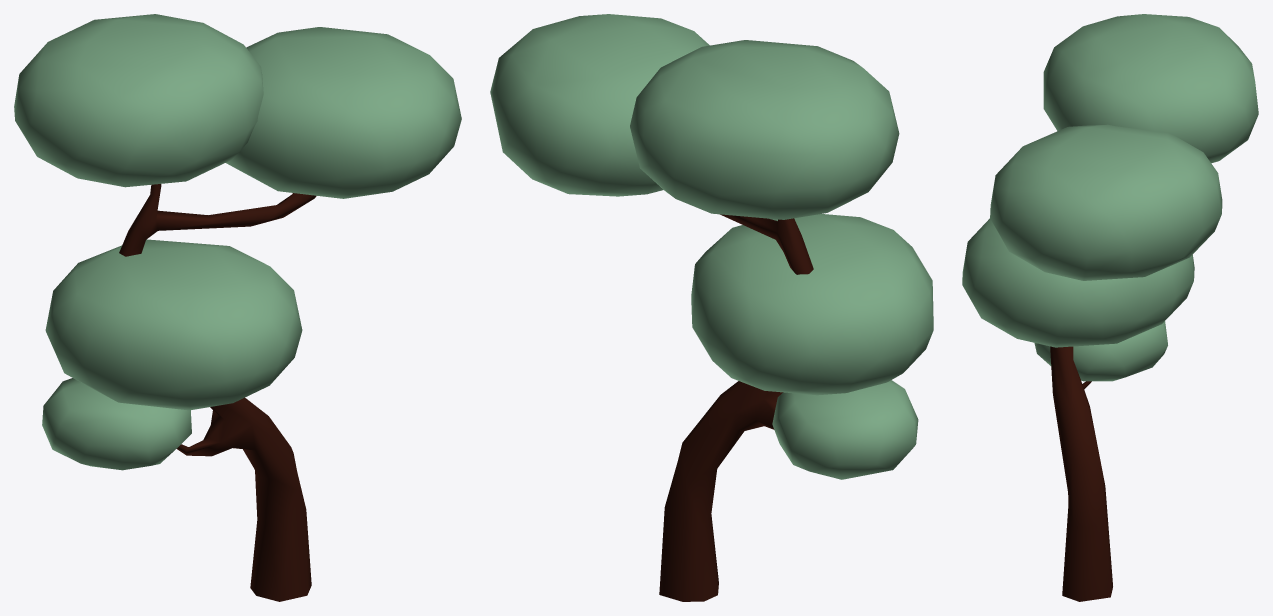
Rendered from tree_08.fbx.
The picture shows the model from 3 angles, left to right: view 1: azimuth 30°, elevation 25°; view 2: azimuth 150°, elevation 25°; view 3: azimuth 270°, elevation 25°; orthographic projection. The views are drawn at different scales.
Visible parts, largest first — view 1: tree_08; view 2: tree_08; view 3: tree_08.
Boxes of the visible parts, left/top/right/bottom form: tree_08: left=14, top=14, right=461, bottom=601; tree_08: left=490, top=14, right=933, bottom=601; tree_08: left=962, top=14, right=1258, bottom=601.
Bounding box in the file's own units: 3.62 × 2.58 × 4.82.
